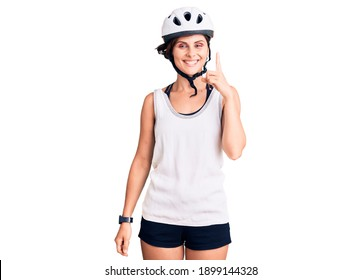helmet: (162, 6, 214, 80)
